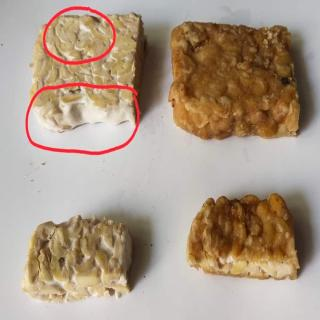Tempe: (30, 9, 146, 134), (22, 214, 134, 304)
